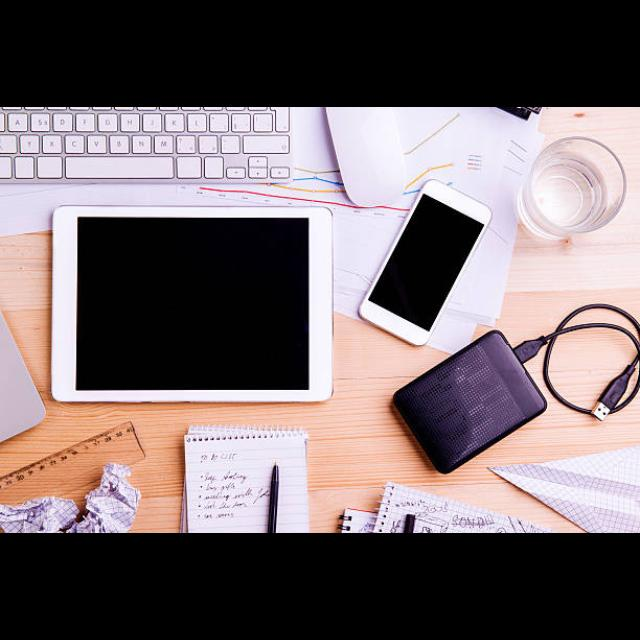HDD: (392, 332, 549, 476)
